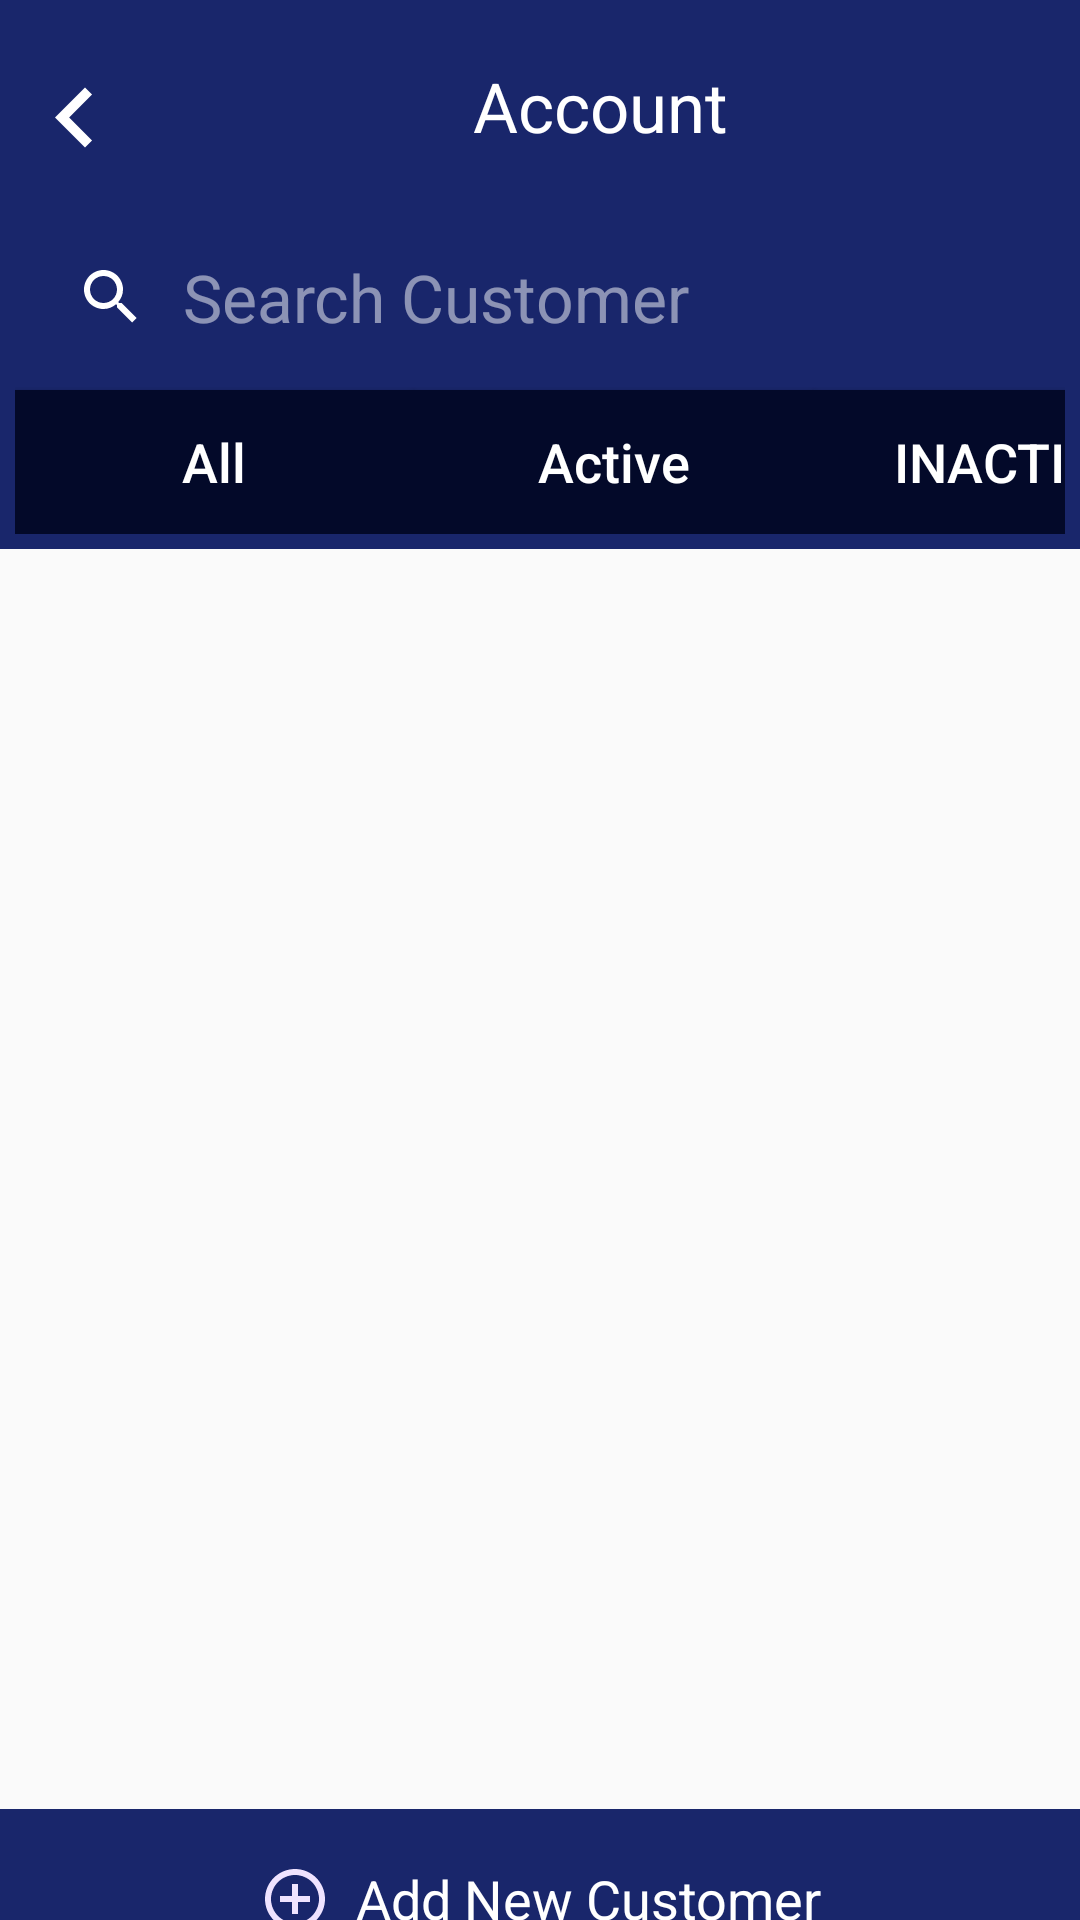

Where to tap for icons on this 1080x1920 app screen, as (x=x, y=y):
back: (x=73, y=117)
